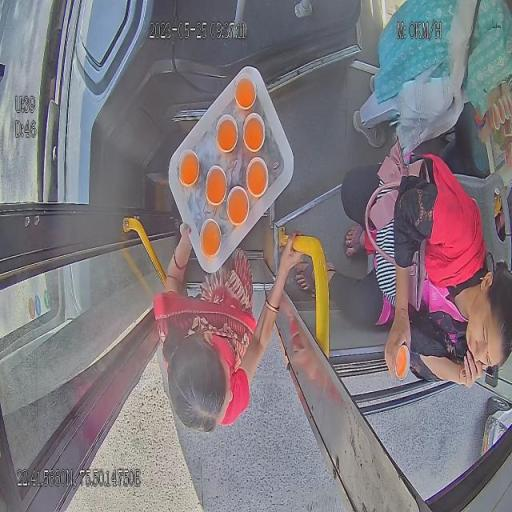persona: (292, 136, 511, 390), (153, 222, 304, 434), (352, 0, 511, 168)
